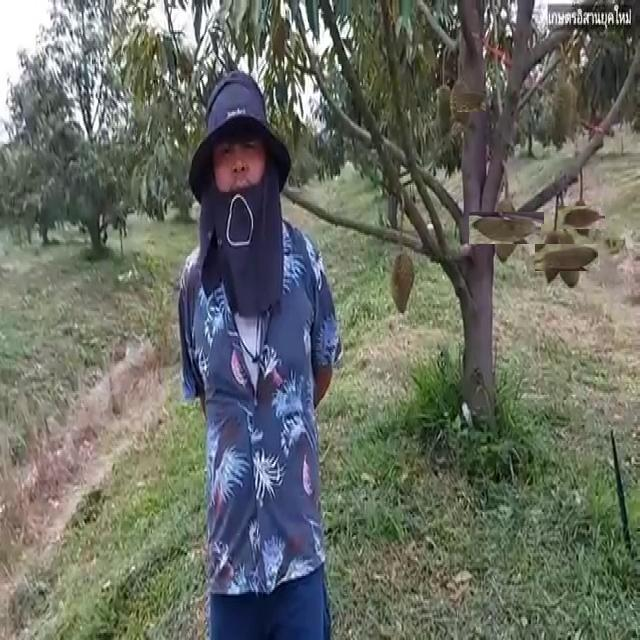durian: (479, 201, 533, 255), (545, 234, 591, 281), (389, 251, 416, 318), (430, 83, 457, 138), (541, 224, 563, 288), (443, 83, 479, 120), (564, 200, 599, 236)
